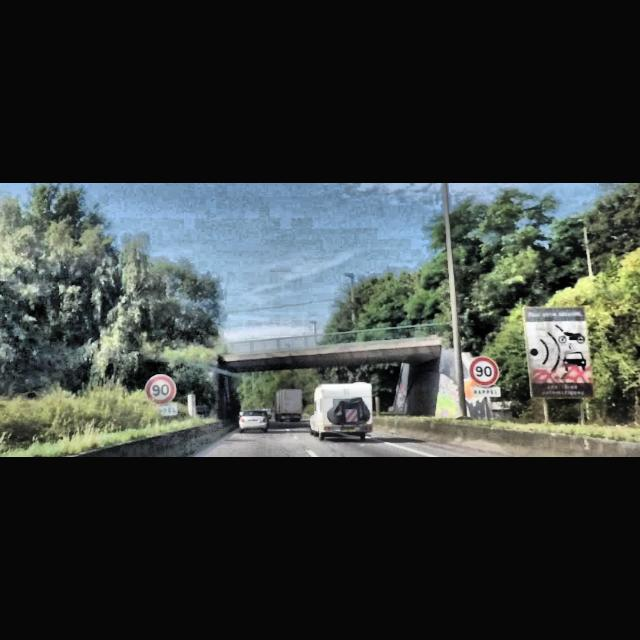speed_90: (471, 358, 499, 388), (147, 376, 175, 404)
